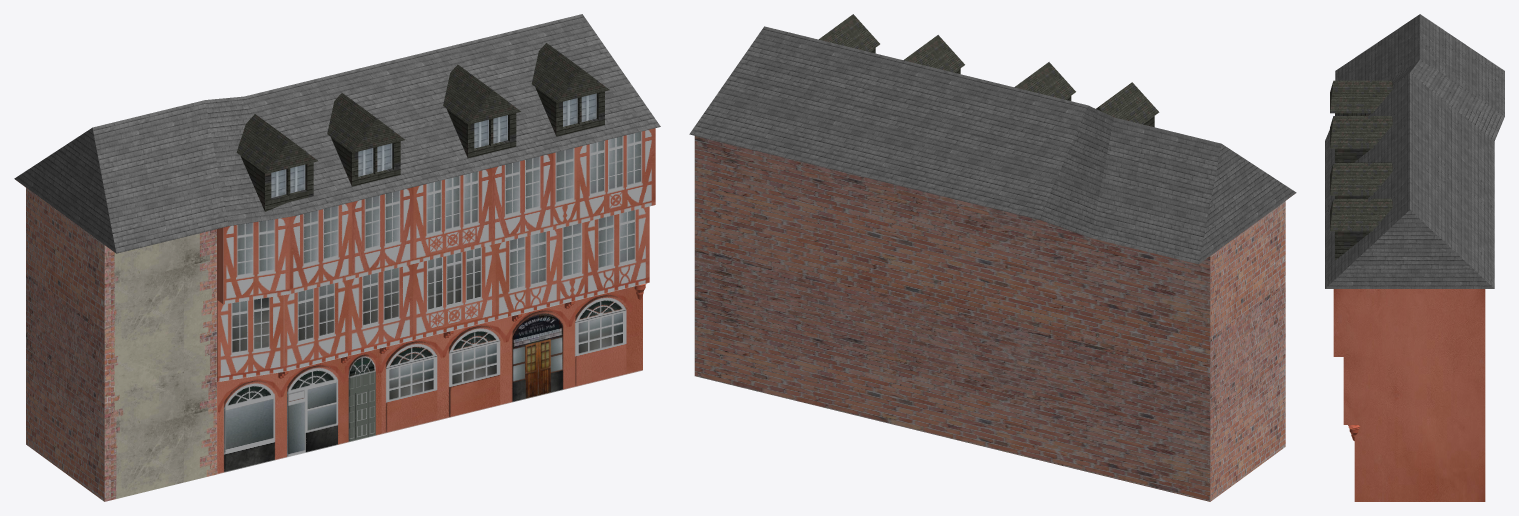
File: haus wertheim 2.fbx
The picture shows the model from 3 angles, left to right: view 1: azimuth 30°, elevation 25°; view 2: azimuth 150°, elevation 25°; view 3: azimuth 270°, elevation 25°; orthographic projection. The views are drawn at different scales.
Parts seen in each view (by area): view 1: new; view 2: new; view 3: new.
Part boxes in pixels (x1=…): new: x1=14, y1=14, x2=660, y2=501; new: x1=689, y1=14, x2=1296, y2=501; new: x1=1325, y1=14, x2=1504, y2=501.
Size of the model in its own units: 318 by 110 by 190.
Materials: 10 (10 with a texture image).
